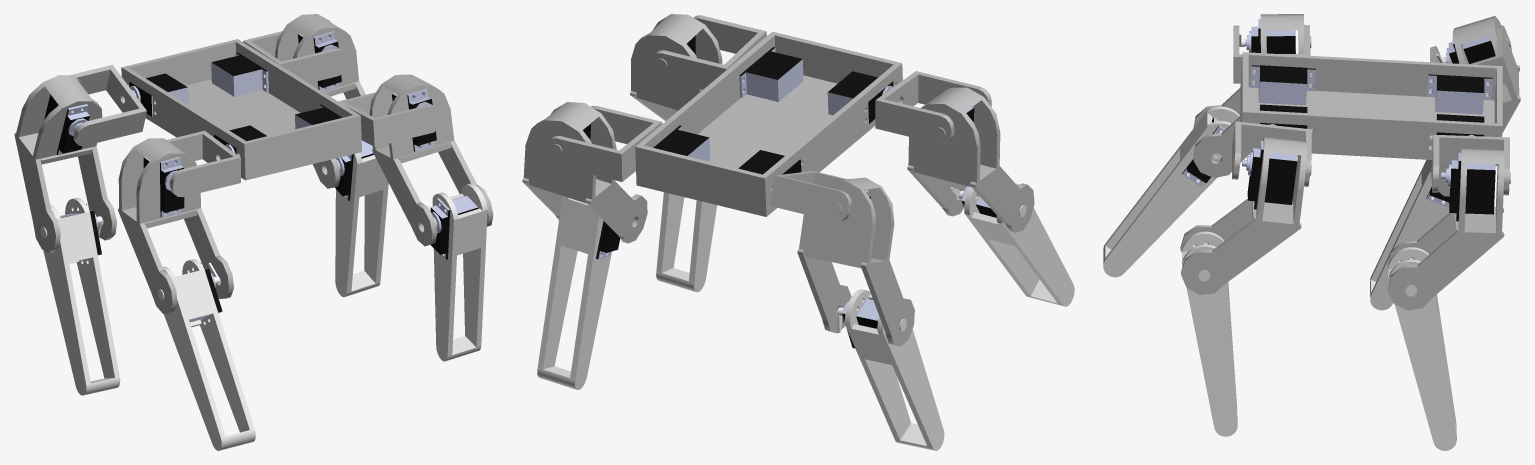
Rendered from Cuerpo.obj.
3 renders of one model, left to right at view 1: azimuth 30°, elevation 25°; view 2: azimuth 150°, elevation 25°; view 3: azimuth 270°, elevation 25°, orthographic. The views are drawn at different scales.
Parts seen in each view (by area): view 1: Solid1:24, Solid1:3, Solid1:10, Solid1:1, Solid1:8, Solid1:20, Solid1:23, Solid1:15, Solid1:18, Solid1:6, Solid1:13, Solid1:22 (+10 smaller); view 2: Solid1:24, Solid1:3, Solid1:10, Solid1:18, Solid1:15, Solid1:1, Solid1:8, Solid1:23, Solid1:13, Solid1:17, Solid1:20, Solid1:22 (+7 smaller); view 3: Solid1:24, Solid1:23, Solid1:18, Solid1:8, Solid1:15, Solid1:20, Solid1:1, Solid1:10, Solid1:3, Solid1:14, Solid1:19, Solid1:28 (+10 smaller).
Part boxes in pixels (x1,y1,x2,y2): Solid1:24: (121,39,361,180); Solid1:3: (14,75,116,252); Solid1:10: (118,138,233,313); Solid1:1: (40,198,120,395); Solid1:8: (158,259,255,450); Solid1:20: (432,183,487,361); Solid1:23: (369,74,493,246); Solid1:15: (335,152,388,297); Solid1:18: (274,14,365,188); Solid1:6: (70,65,146,145); Solid1:13: (167,130,240,197); Solid1:22: (338,92,441,146); Solid1:24: (635,31,902,216); Solid1:3: (797,177,914,346); Solid1:10: (907,87,1034,232); Solid1:18: (522,102,647,243); Solid1:15: (537,196,611,389); Solid1:1: (844,289,944,450); Solid1:8: (964,183,1074,306); Solid1:23: (630,14,722,120); Solid1:13: (875,71,991,144); Solid1:17: (546,106,662,181); Solid1:20: (656,108,717,292); Solid1:22: (651,15,766,89); Solid1:24: (1240,52,1502,159); Solid1:23: (1180,137,1311,294); Solid1:18: (1387,148,1510,310); Solid1:8: (1103,106,1239,277); Solid1:15: (1388,247,1456,450); Solid1:20: (1181,231,1237,436); Solid1:1: (1370,159,1449,310); Solid1:10: (1193,14,1311,177); Solid1:3: (1430,16,1520,196); Solid1:14: (1441,152,1495,221); Solid1:19: (1242,141,1297,209); Solid1:28: (1250,65,1315,105).
Bounding box in the file's own units: 338 × 278 × 352.
